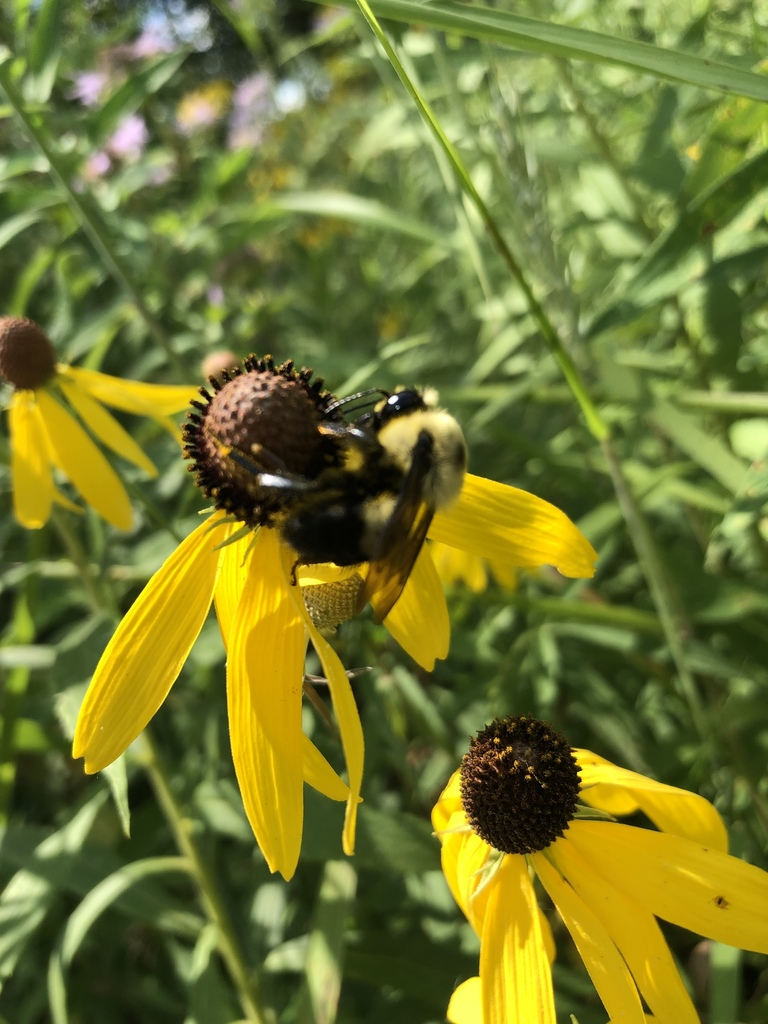bumblebee: (257, 380, 469, 626)
